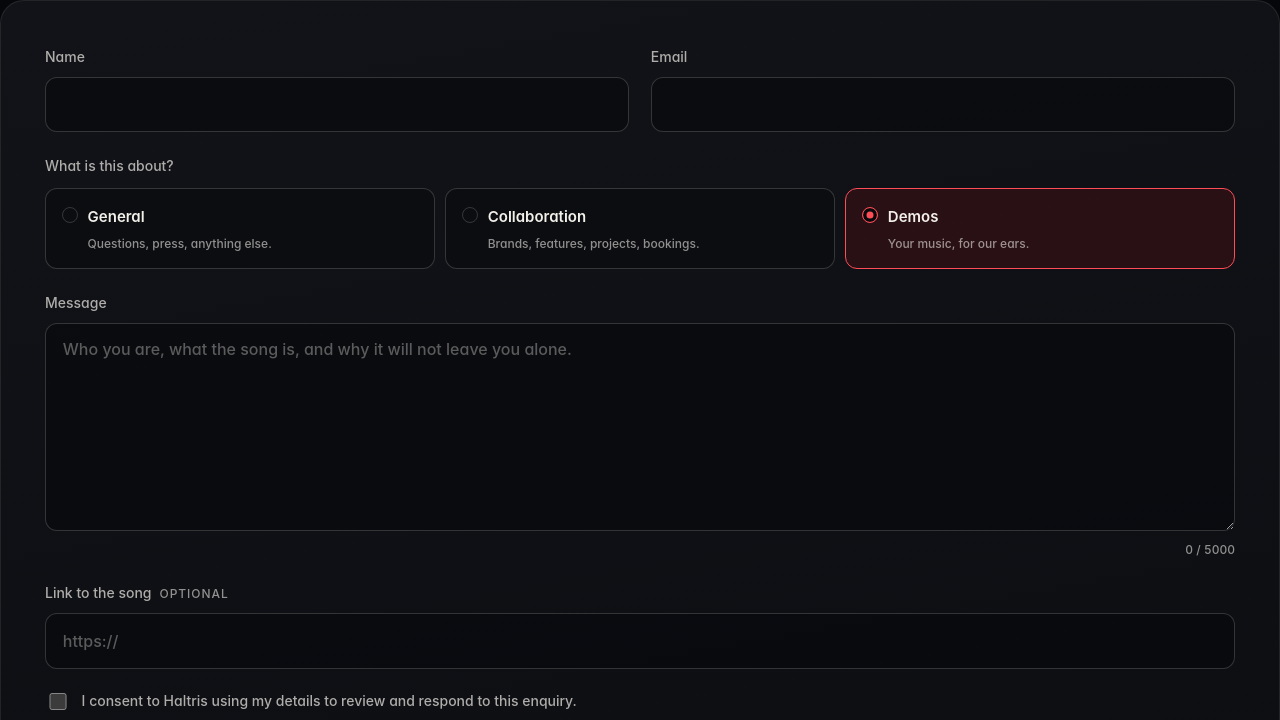
ContactForm › sends the honeypot field empty for people and keeps it out of reach
Expected: the radio button labelled "Demos Your music, for our ears." is checked, [845,188,1235,269]
Type "Asha Rao" into the field labelled "Name".
click(337, 105); type("Asha Rao")  # box [45,77,629,132]
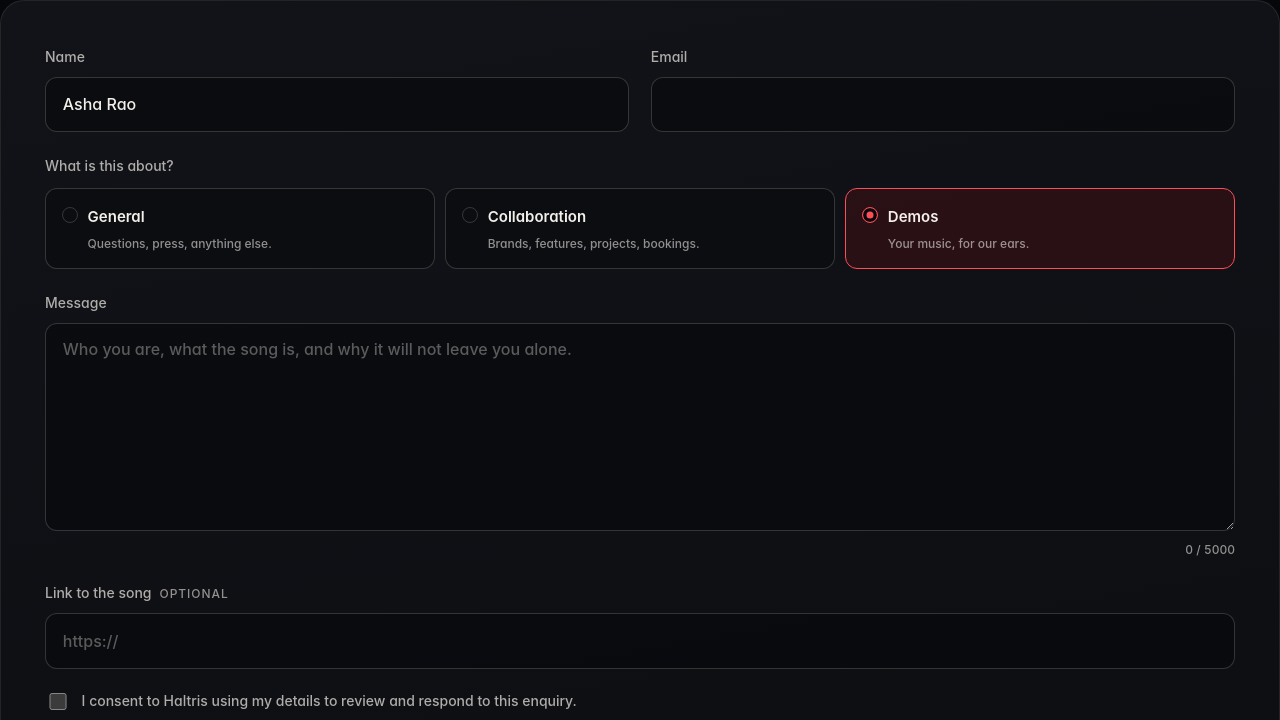
Type "asha@example.com" into the field labelled "Email".
click(943, 105); type("asha@example.com")  # box [651,77,1235,132]
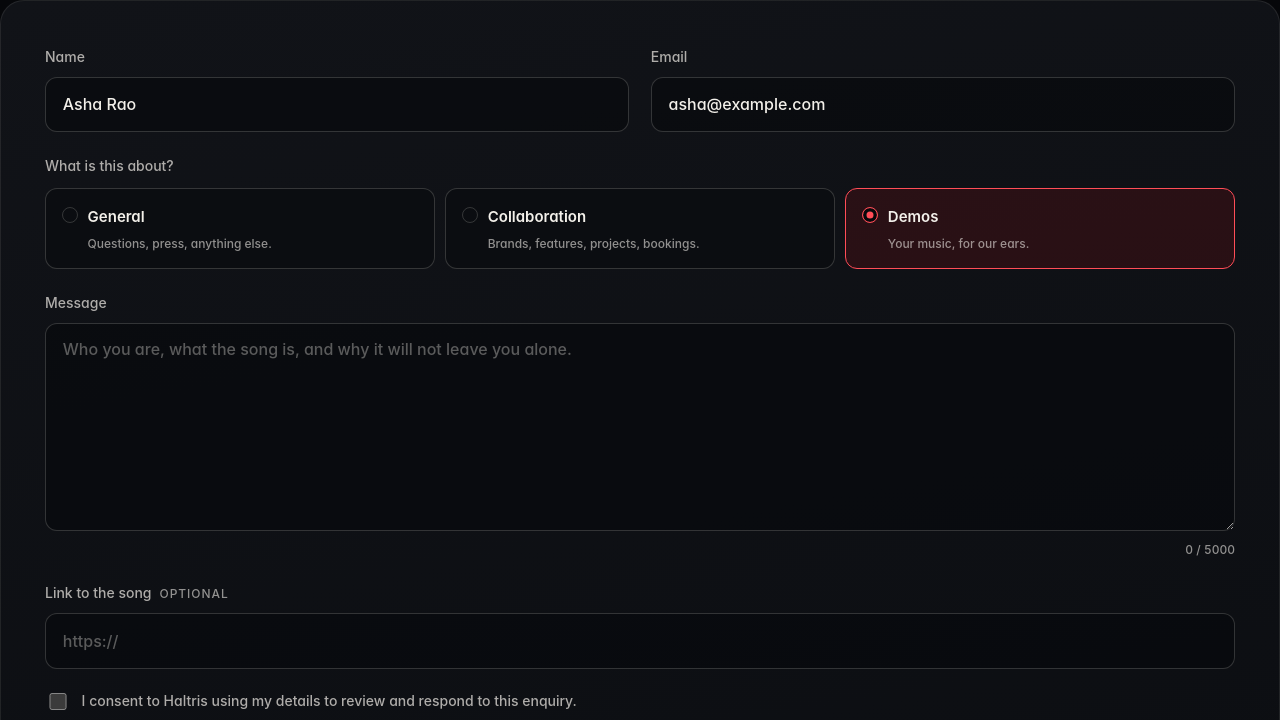
Replace the text in the text box labelled "Message 0 / 5000" with "I would like to collaborate." at (640, 427), box [45,323,1235,531]
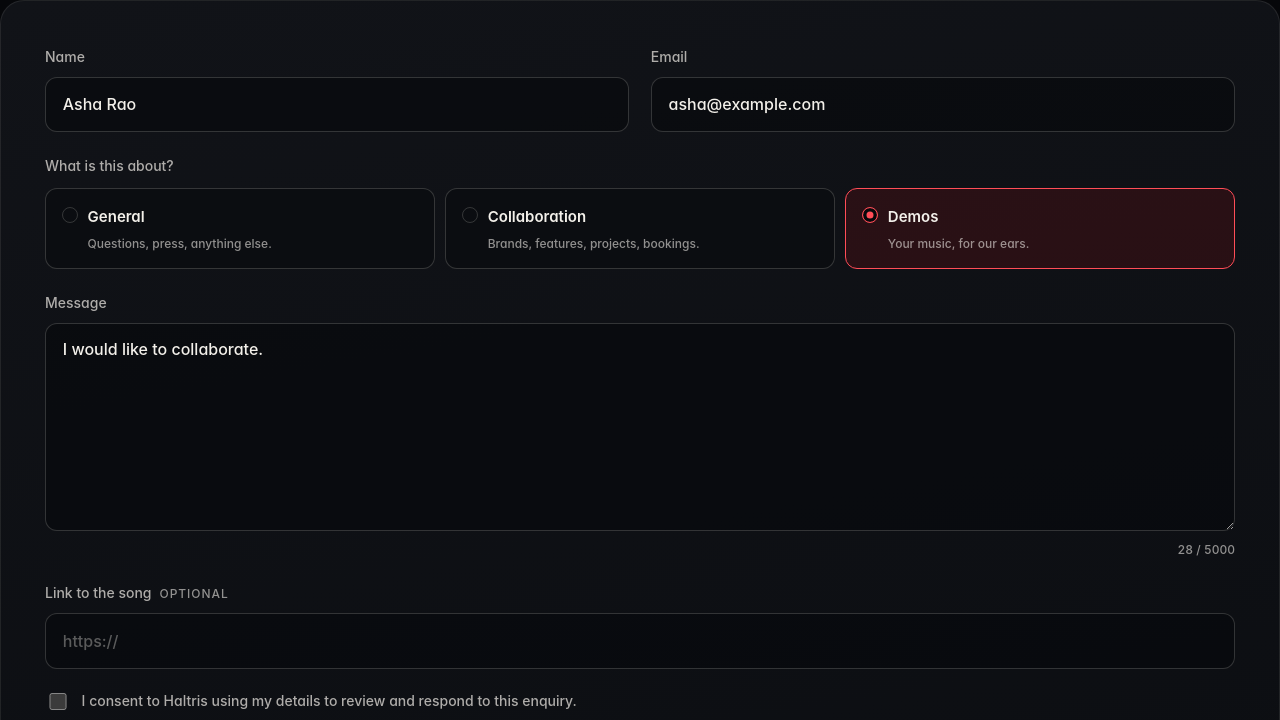
Click the checkbox labelled "I consent".
click(58, 702)  # box [49,693,67,710]
(page scrolled)
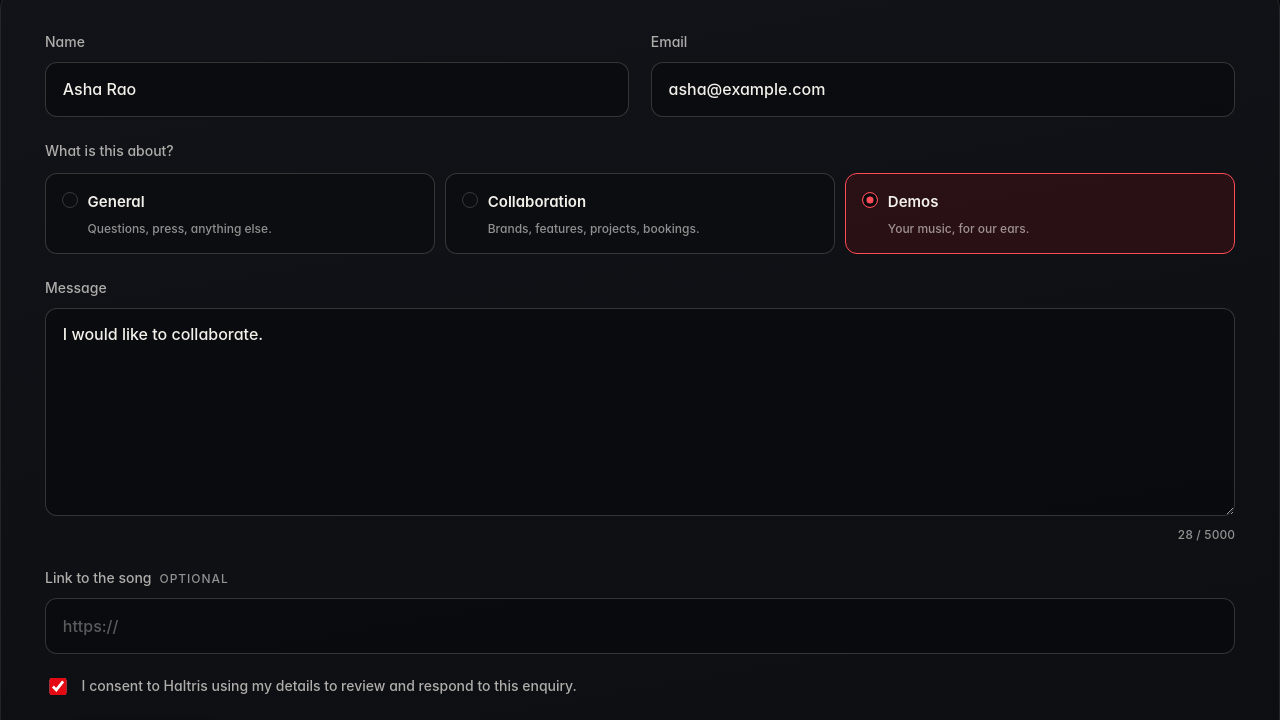
Submit the form named "send message"
(page scrolled)
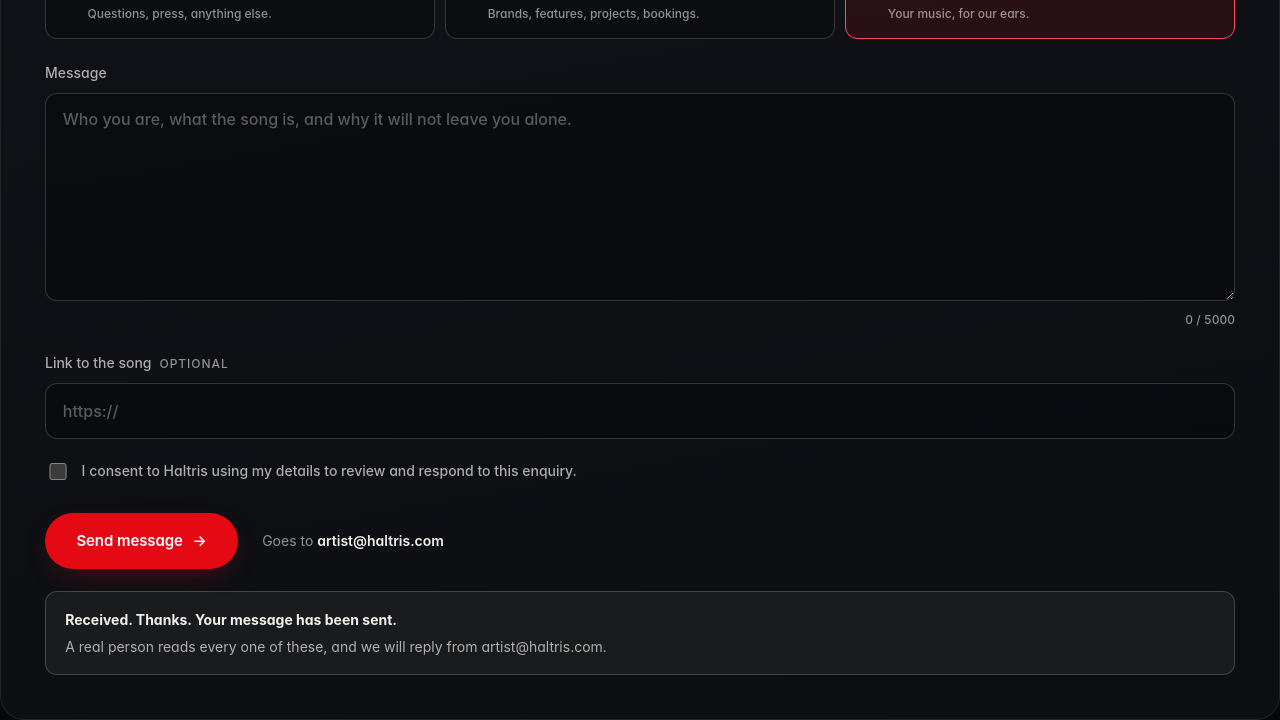
Expected: the message is shown, [45,590,1235,675]
